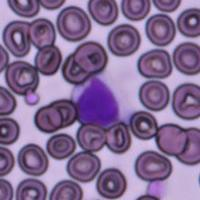L: (70, 72, 132, 127)
